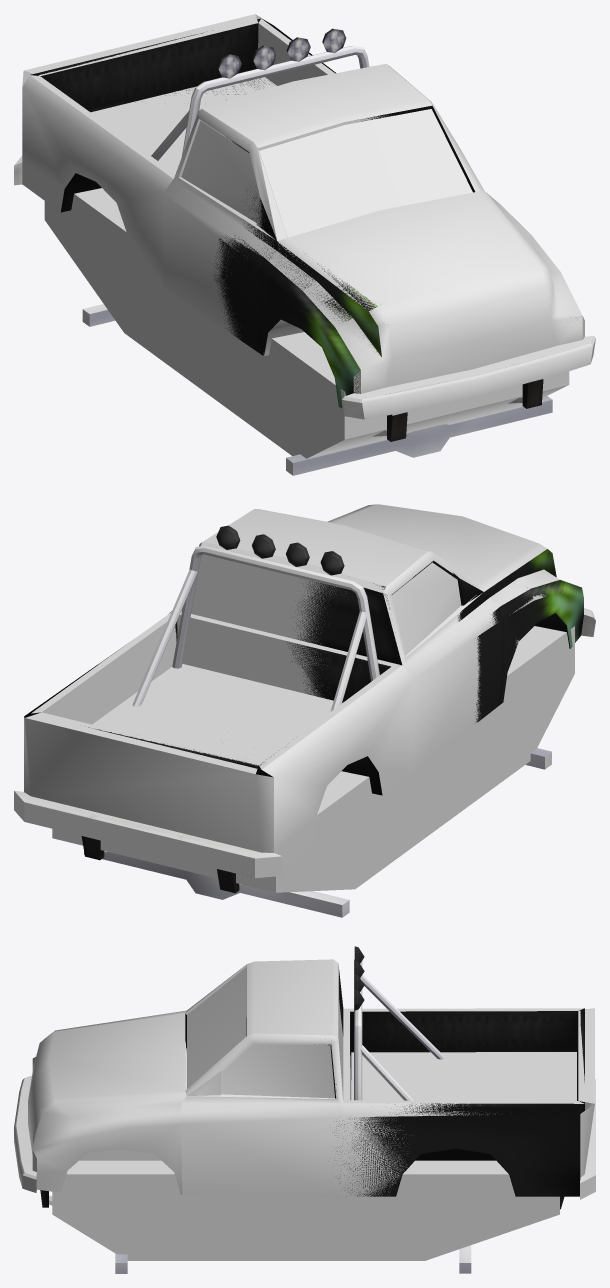
The model's file is monsterTruck.fbx.
The picture shows the model from 3 angles, top to bottom: view 1: azimuth 30°, elevation 25°; view 2: azimuth 150°, elevation 25°; view 3: azimuth 270°, elevation 25°; orthographic projection. The views are drawn at different scales.
Visible parts, largest first — view 1: ConvexHull_Hidden_01, ConvexHull_Hidden_00, ConvexHull_Hidden_05 (×2), car_body, ConvexHull_Hidden_04, ConvexHull_Hidden_02, front_axle, ConvexHull_Hidden_03; view 2: ConvexHull_Hidden_05 (×2), ConvexHull_Hidden_00, car_body, ConvexHull_Hidden_02, ConvexHull_Hidden_04, ConvexHull_Hidden_01, ConvexHull_Hidden_03, rear_axle; view 3: ConvexHull_Hidden_05 (×2), ConvexHull_Hidden_00, car_body, ConvexHull_Hidden_01, ConvexHull_Hidden_02, ConvexHull_Hidden_03, ConvexHull_Hidden_04.
Boxes of the visible parts, bbox=[...] form: ConvexHull_Hidden_01: bbox=[263, 190, 595, 419]; ConvexHull_Hidden_00: bbox=[163, 64, 500, 338]; ConvexHull_Hidden_05 (×2): bbox=[14, 14, 569, 458]; car_body: bbox=[14, 18, 583, 441]; ConvexHull_Hidden_04: bbox=[22, 75, 175, 286]; ConvexHull_Hidden_02: bbox=[22, 77, 276, 211]; front_axle: bbox=[286, 396, 552, 475]; ConvexHull_Hidden_03: bbox=[258, 18, 334, 85]; ConvexHull_Hidden_05 (×2): bbox=[14, 626, 574, 892]; ConvexHull_Hidden_00: bbox=[169, 509, 499, 771]; car_body: bbox=[17, 525, 595, 893]; ConvexHull_Hidden_02: bbox=[14, 664, 333, 878]; ConvexHull_Hidden_04: bbox=[259, 665, 414, 852]; ConvexHull_Hidden_01: bbox=[327, 504, 595, 701]; ConvexHull_Hidden_03: bbox=[31, 612, 176, 724]; rear_axle: bbox=[84, 851, 349, 917]; ConvexHull_Hidden_05 (×2): bbox=[52, 1008, 595, 1260]; ConvexHull_Hidden_00: bbox=[180, 959, 351, 1196]; car_body: bbox=[36, 946, 595, 1209]; ConvexHull_Hidden_01: bbox=[14, 1010, 186, 1194]; ConvexHull_Hidden_02: bbox=[351, 1052, 595, 1199]; ConvexHull_Hidden_03: bbox=[342, 1100, 584, 1196]; ConvexHull_Hidden_04: bbox=[344, 1008, 583, 1011].
Bounding box in the file's own units: 69.21 × 153 × 75.02.
1 material, 1 textured.
